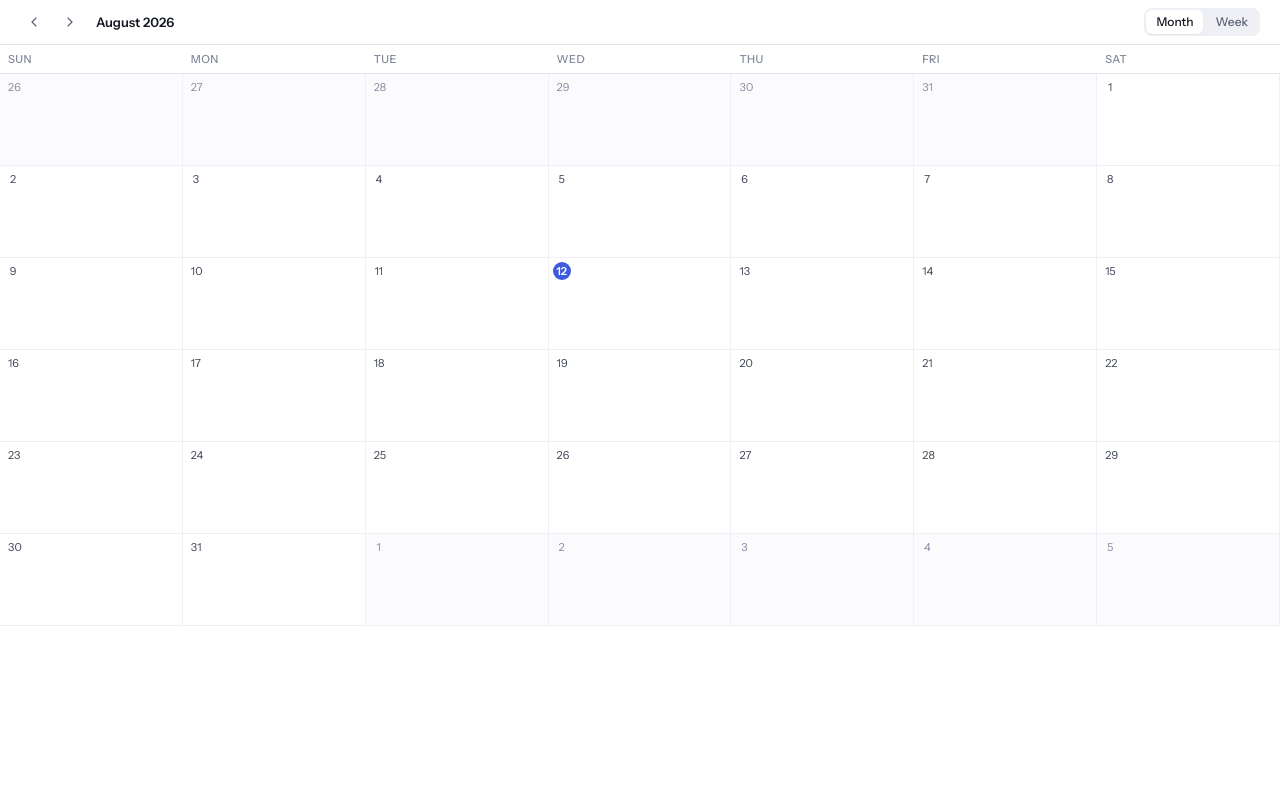
Test case: CalendarView grid settings › switches span from the header without touching settings
Click the tab with test id "calendar-span-week".
click(1232, 22)  # box [1206, 10, 1258, 34]
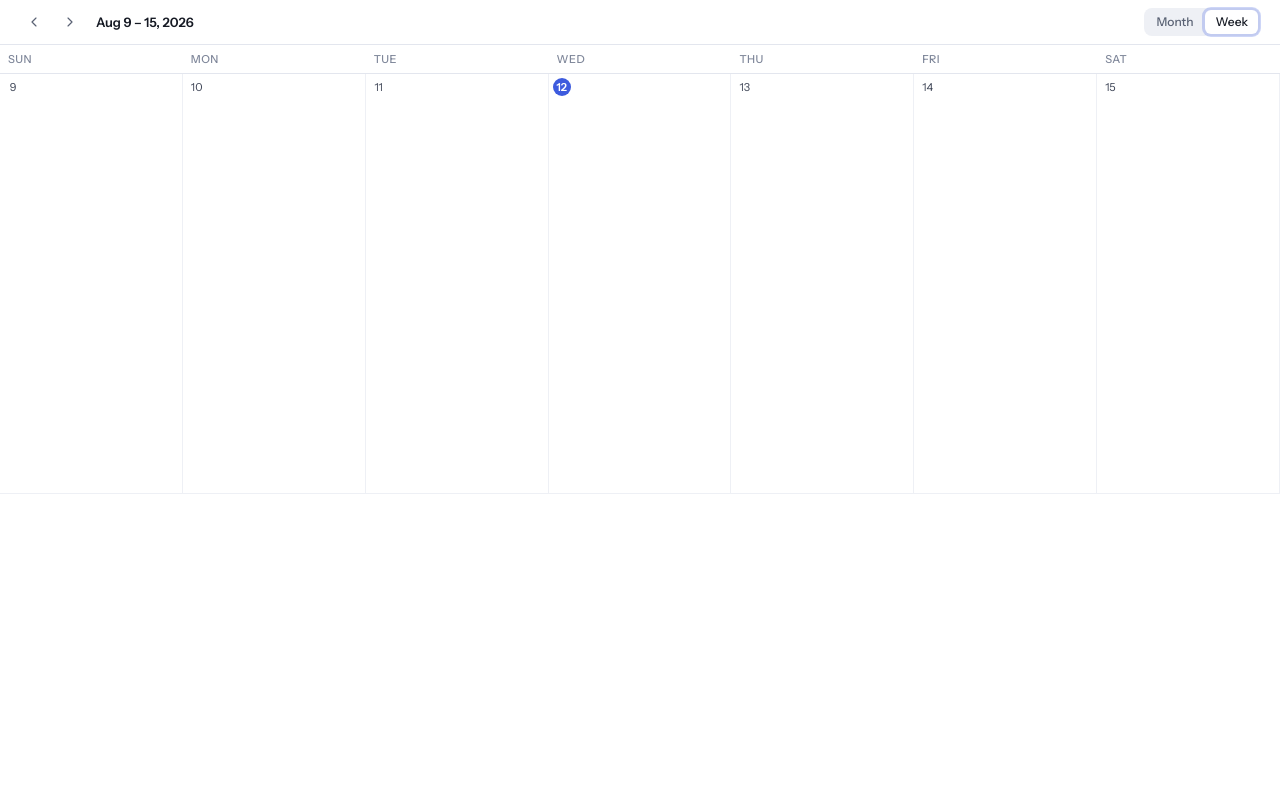
Expected: the number of elements with test id "calendar-day" is 7
